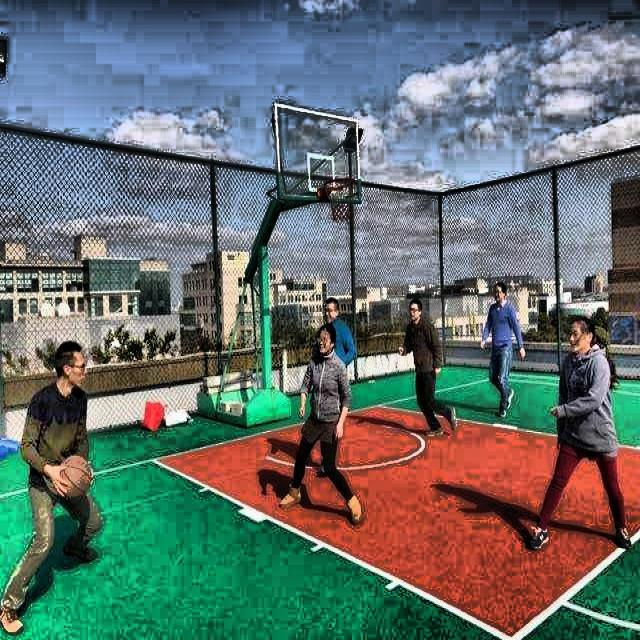rim: (322, 176, 358, 221), (63, 455, 91, 498)
